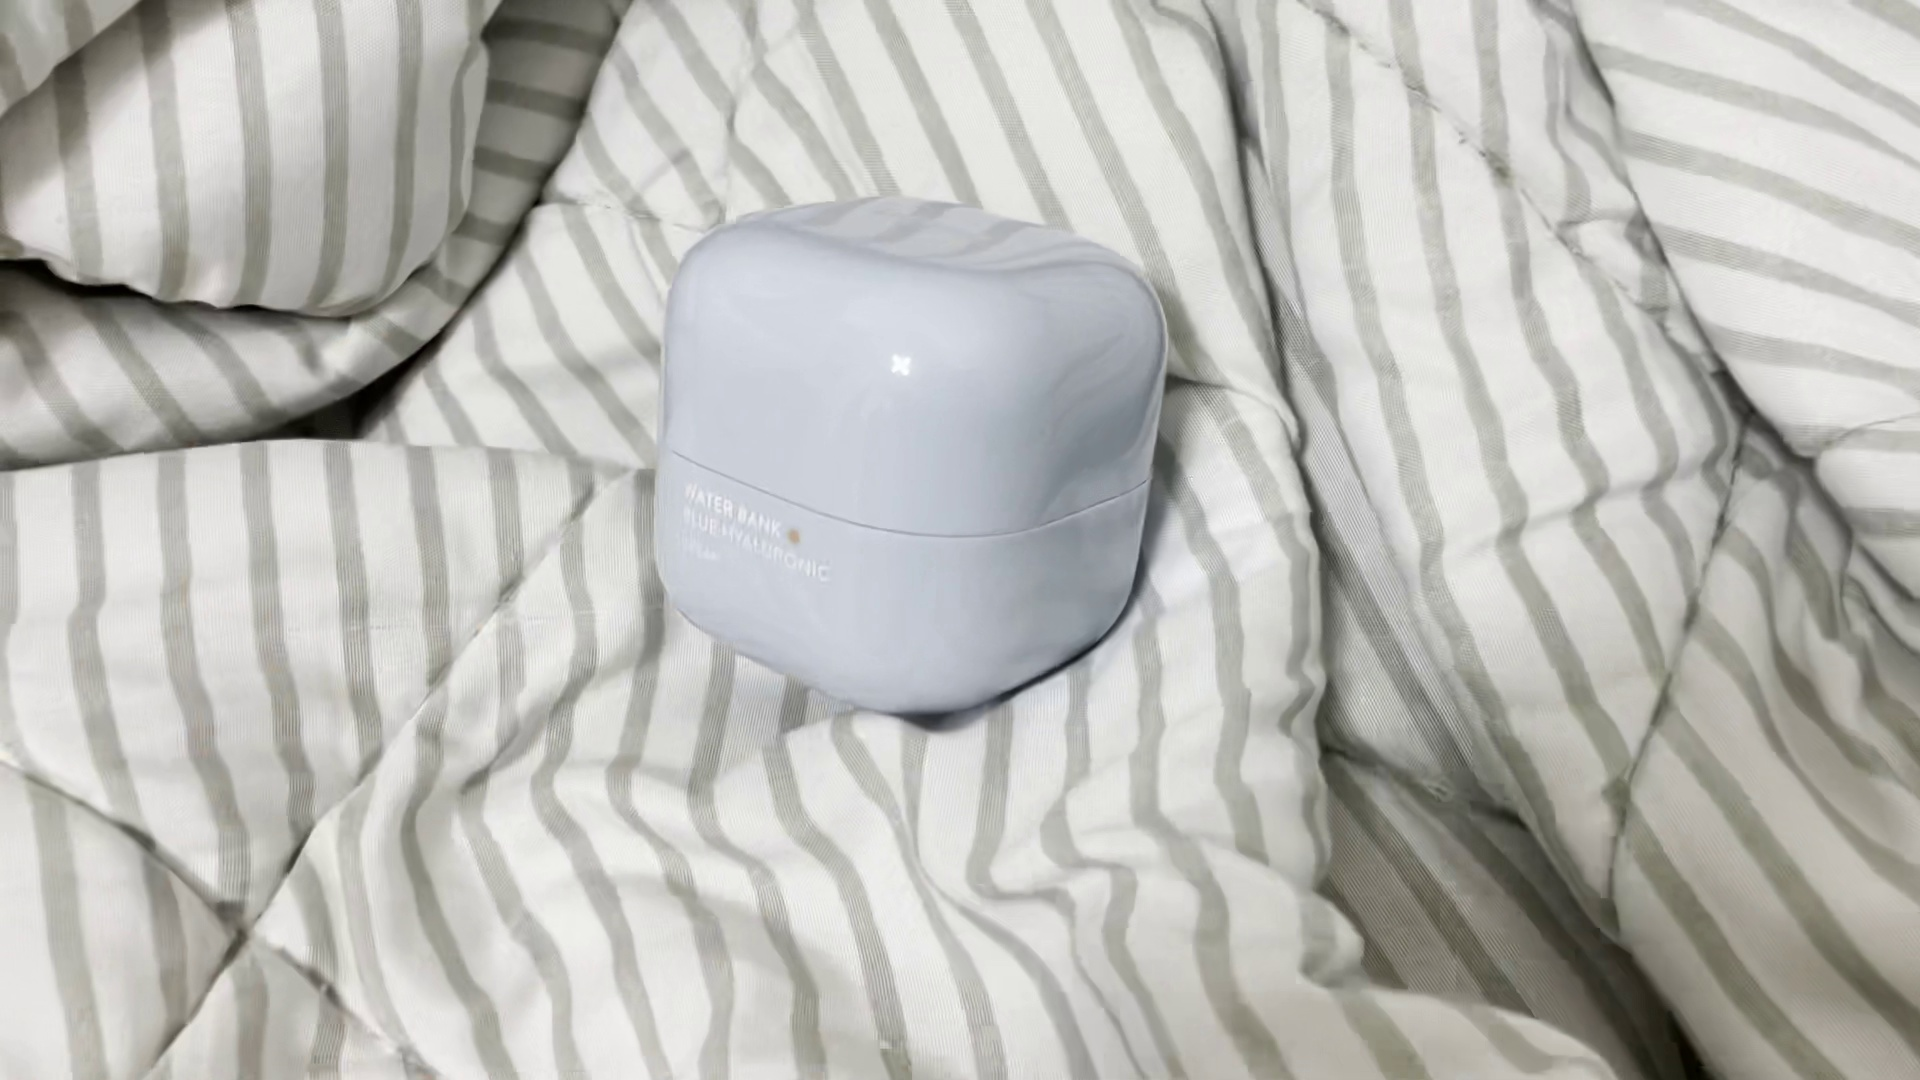cream: (647, 186, 1154, 709)
